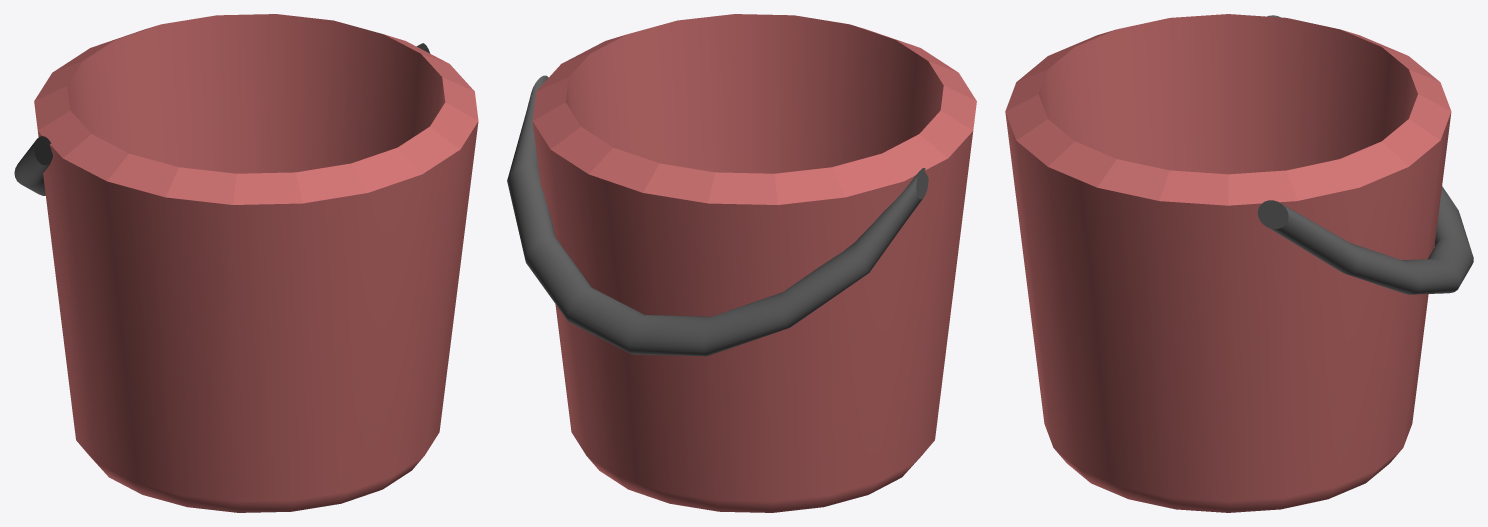
The model's file is bucket.fbx.
3 views of the same model, side by side, from view 1: azimuth 30°, elevation 25°; view 2: azimuth 150°, elevation 25°; view 3: azimuth 270°, elevation 25° (orthographic).
Visible parts, largest first — view 1: bucket; view 2: bucket; view 3: bucket.
Boxes of the visible parts, <box> form: bucket: <box>14,14,478,512</box>; bucket: <box>507,14,976,512</box>; bucket: <box>1005,14,1473,512</box>.
Size of the model in its own units: 0.8871 by 0.7595 by 0.929.
